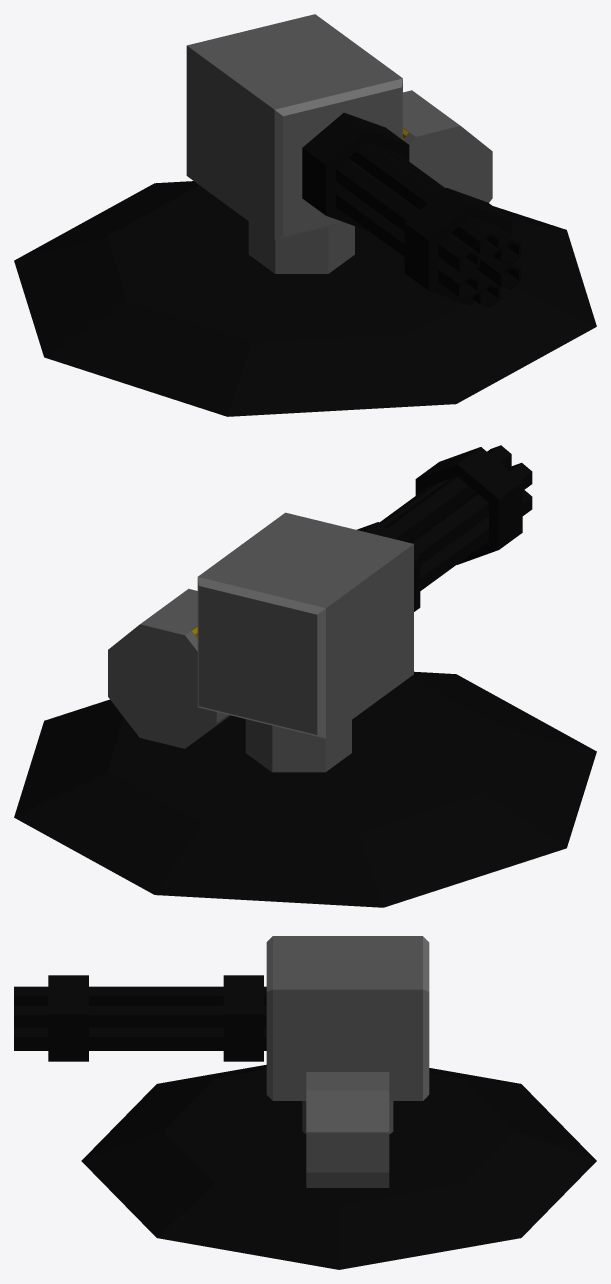
The model's file is SM_Wpn_Gun_MachineGun_02.fbx.
3 views of the same model, one above another, from view 1: azimuth 30°, elevation 25°; view 2: azimuth 150°, elevation 25°; view 3: azimuth 270°, elevation 25° (orthographic). The views are drawn at different scales.
Visible parts, largest first — view 1: SM_Wpn_Gun_MachineGun.Base, SM_Wpn_Gun_MachineGun, SM_Wpn_Gun_MachineGun.BarrelPivot; view 2: SM_Wpn_Gun_MachineGun.Base, SM_Wpn_Gun_MachineGun, SM_Wpn_Gun_MachineGun.BarrelPivot; view 3: SM_Wpn_Gun_MachineGun.Base, SM_Wpn_Gun_MachineGun, SM_Wpn_Gun_MachineGun.BarrelPivot.
Part boxes in pixels (x1,y1,x2,y2): SM_Wpn_Gun_MachineGun.Base: (14, 181, 596, 416); SM_Wpn_Gun_MachineGun: (186, 14, 492, 273); SM_Wpn_Gun_MachineGun.BarrelPivot: (336, 142, 521, 307); SM_Wpn_Gun_MachineGun.Base: (14, 671, 596, 907); SM_Wpn_Gun_MachineGun: (108, 512, 420, 772); SM_Wpn_Gun_MachineGun.BarrelPivot: (379, 445, 532, 590); SM_Wpn_Gun_MachineGun.Base: (81, 1064, 596, 1269); SM_Wpn_Gun_MachineGun: (223, 936, 429, 1187); SM_Wpn_Gun_MachineGun.BarrelPivot: (14, 975, 266, 1061).
Bounding box in the file's own units: 0.7184 × 0.3012 × 0.8121.
